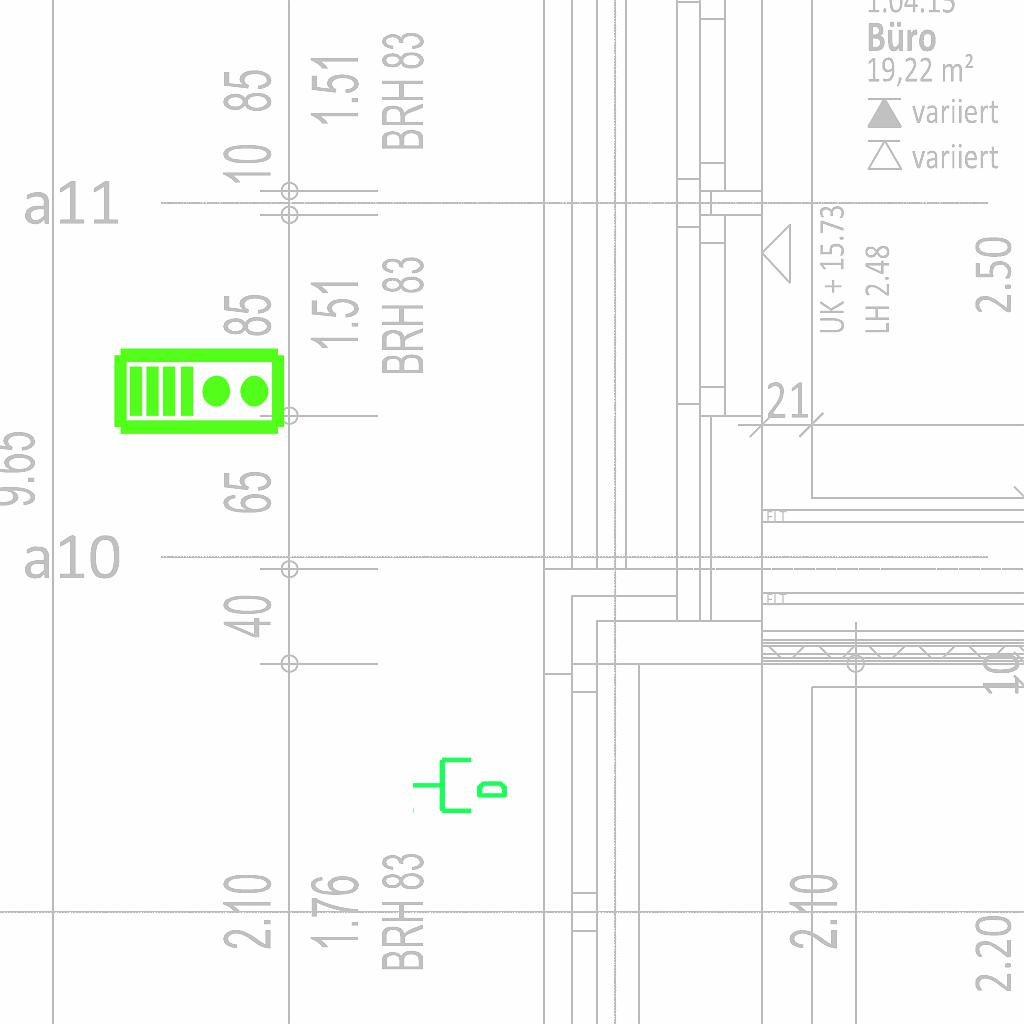Datenanschluss_einfach: (410, 749, 510, 818)
Gegensprechanlage_mit_Video: (112, 342, 288, 437)
